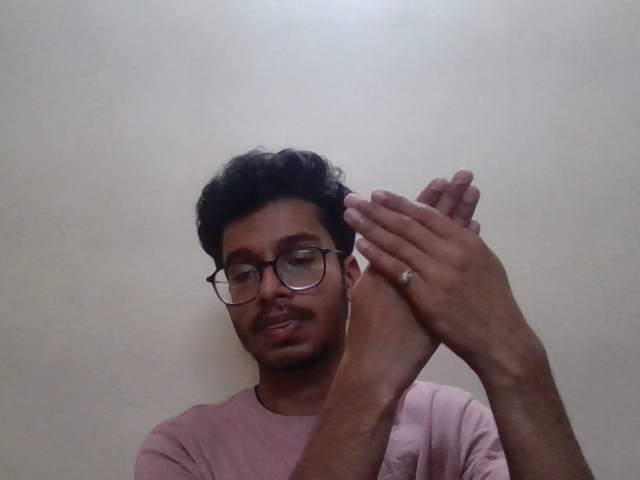what: (327, 167, 553, 367)
